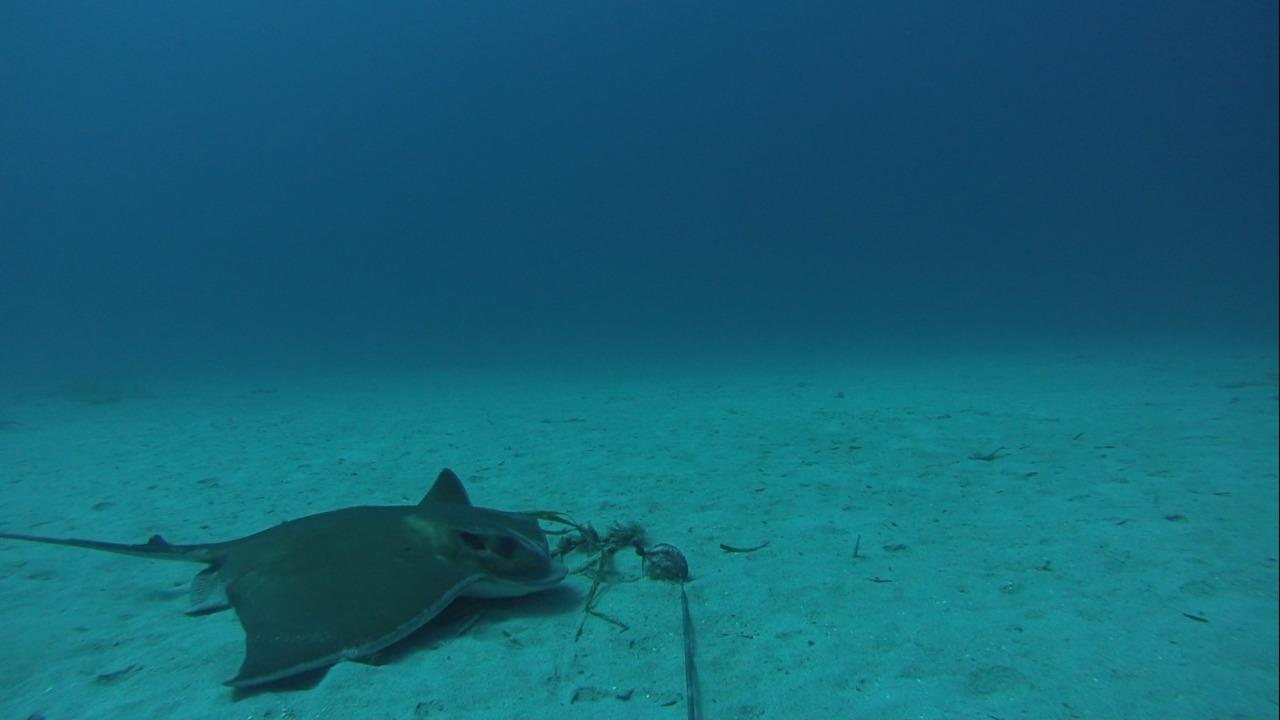myliobatis: (6, 460, 575, 702)
